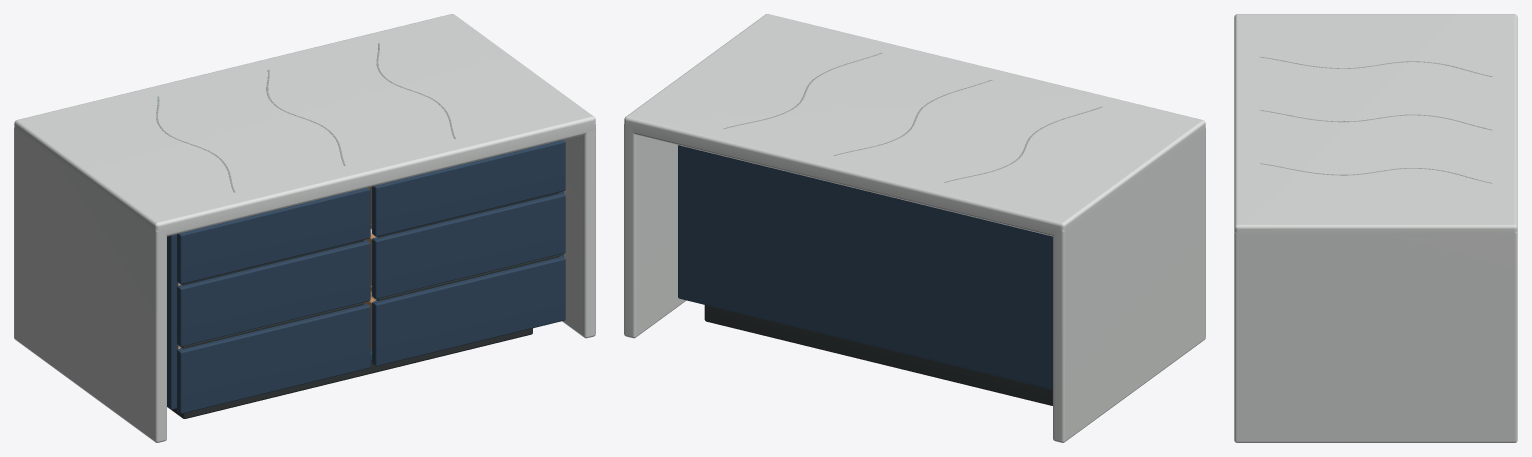
The model's file is kitchenModernIslandNavy.glb.
The picture shows the model from 3 angles, left to right: view 1: azimuth 30°, elevation 25°; view 2: azimuth 150°, elevation 25°; view 3: azimuth 270°, elevation 25°; orthographic projection.
Parts seen in each view (by area): view 1: Thick stone worktop, Stone waterfall end panel, Handleless island drawer.005, Handleless island drawer.002, Handleless island drawer.004, Handleless island drawer.001, Handleless island drawer.003, Handleless island drawer, Stone waterfall end panel.001, Recessed island plinth, Storage inner side; view 2: Thick stone worktop, Storage inner back, Stone waterfall end panel, Stone waterfall end panel.001, Recessed island plinth; view 3: Thick stone worktop, Stone waterfall end panel.001, Fine stone vein.001, Fine stone vein.002, Fine stone vein.
Part boxes in pixels (x1=…): Thick stone worktop: x1=14, y1=14, x2=595, y2=236; Stone waterfall end panel: x1=14, y1=127, x2=166, y2=442; Handleless island drawer.005: x1=372, y1=256, x2=565, y2=366; Handleless island drawer.002: x1=177, y1=303, x2=370, y2=413; Handleless island drawer.004: x1=372, y1=192, x2=565, y2=299; Handleless island drawer.001: x1=177, y1=240, x2=370, y2=346; Handleless island drawer.003: x1=372, y1=140, x2=565, y2=236; Handleless island drawer: x1=177, y1=187, x2=370, y2=284; Stone waterfall end panel.001: x1=562, y1=123, x2=595, y2=338; Recessed island plinth: x1=167, y1=328, x2=532, y2=418; Storage inner side: x1=167, y1=234, x2=178, y2=409; Thick stone worktop: x1=624, y1=14, x2=1205, y2=236; Storage inner back: x1=678, y1=145, x2=1052, y2=389; Stone waterfall end panel: x1=1053, y1=127, x2=1205, y2=442; Stone waterfall end panel.001: x1=624, y1=123, x2=686, y2=338; Recessed island plinth: x1=704, y1=305, x2=1052, y2=405; Thick stone worktop: x1=1234, y1=14, x2=1517, y2=238; Stone waterfall end panel.001: x1=1234, y1=232, x2=1517, y2=442; Fine stone vein.001: x1=1259, y1=110, x2=1492, y2=130; Fine stone vein.002: x1=1259, y1=163, x2=1492, y2=183; Fine stone vein: x1=1260, y1=56, x2=1492, y2=76.
Size of the model in its own units: 2.58 by 1.23 by 1.45.
